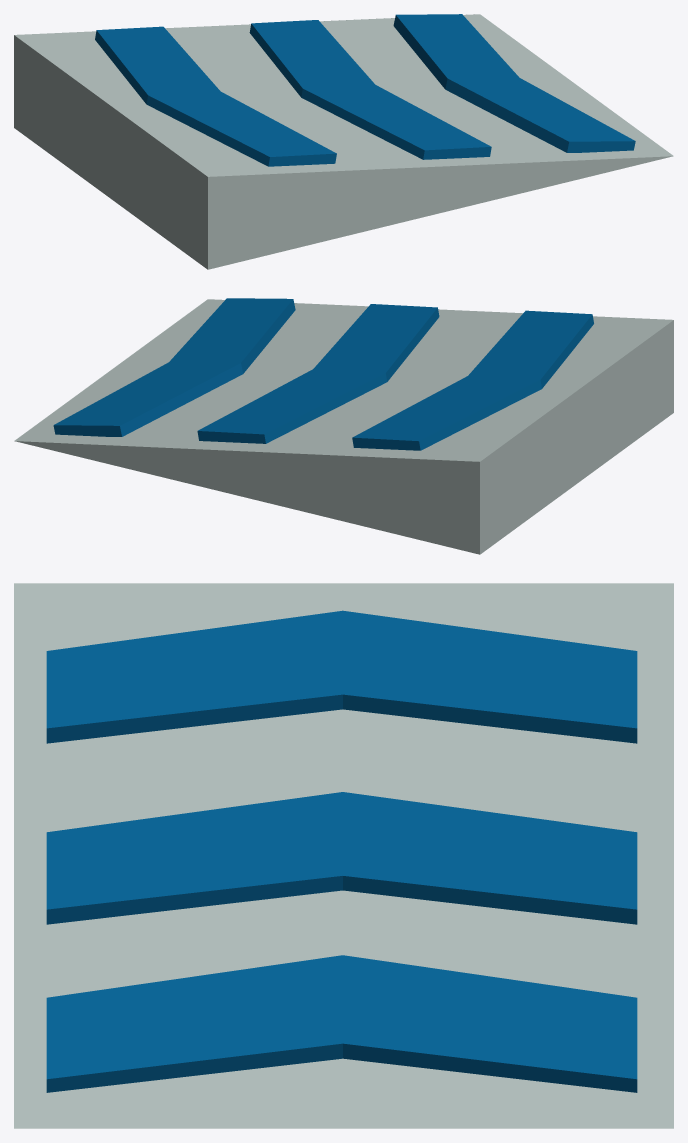
Rendered from speedramp.fbx.
3 renders of one model, top to bottom at view 1: azimuth 30°, elevation 25°; view 2: azimuth 150°, elevation 25°; view 3: azimuth 270°, elevation 25°, orthographic. The views are drawn at different scales.
Visible parts, largest first — view 1: Cube, Cube.003, Cube.002, Cube.001; view 2: Cube, Cube.003, Cube.002, Cube.001; view 3: Cube, Cube.001, Cube.003, Cube.002.
Part boxes in pixels (x1,y1,x2,y2): Cube: [14, 14, 673, 269]; Cube.003: [95, 26, 336, 166]; Cube.002: [249, 20, 491, 159]; Cube.001: [393, 14, 635, 152]; Cube: [14, 299, 673, 554]; Cube.003: [352, 310, 593, 450]; Cube.002: [197, 304, 439, 443]; Cube.001: [53, 298, 295, 436]; Cube: [14, 583, 673, 1128]; Cube.001: [46, 955, 637, 1092]; Cube.003: [46, 610, 637, 743]; Cube.002: [46, 792, 637, 924].
Size of the model in its own units: 1050 by 204 by 756.
